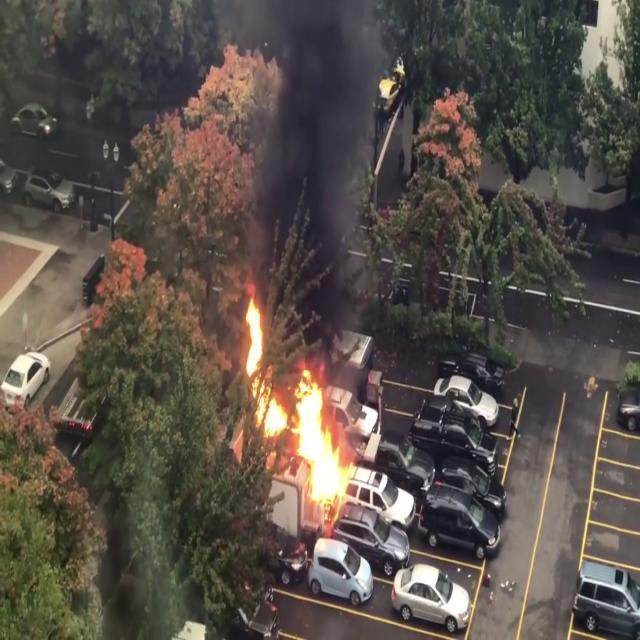Fire: (236, 290, 359, 514)
Smoke: (263, 0, 370, 330)
